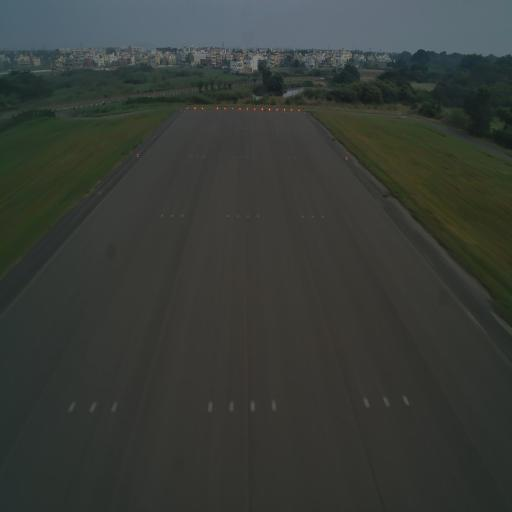off: (226, 392, 237, 421), (107, 397, 120, 420), (360, 390, 372, 414), (400, 387, 412, 411), (248, 394, 259, 420), (86, 397, 99, 418), (66, 393, 77, 416), (268, 393, 278, 418), (381, 389, 391, 412), (206, 394, 216, 416), (235, 210, 241, 222), (309, 212, 316, 222), (158, 211, 164, 222), (319, 213, 325, 222), (180, 211, 185, 221), (245, 212, 250, 222), (255, 212, 260, 221), (225, 212, 230, 220), (170, 212, 174, 220), (301, 212, 305, 220)
